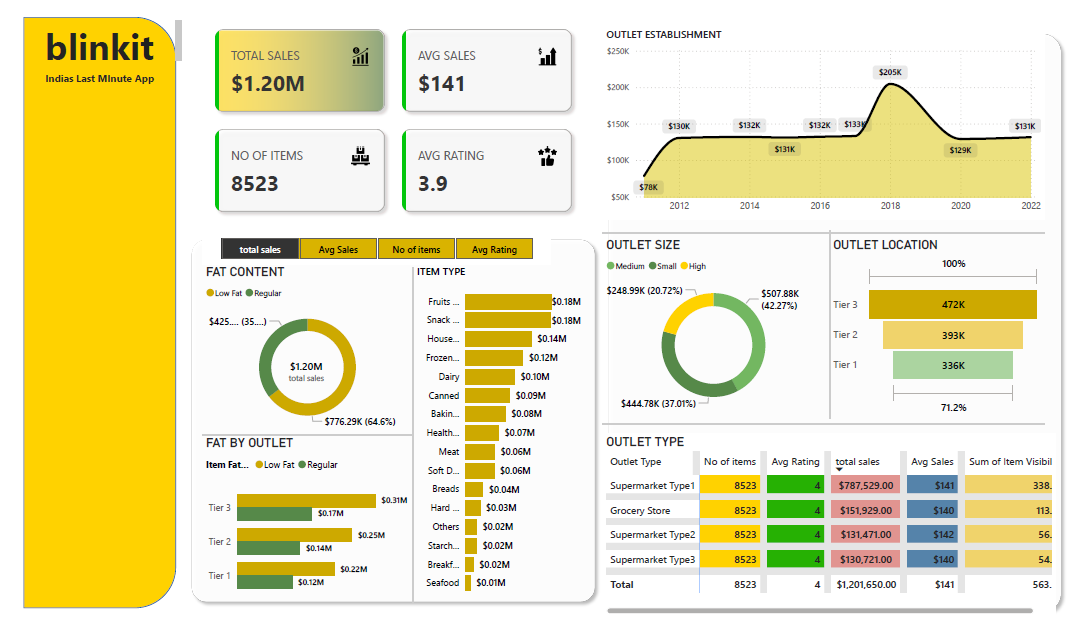

Layout of this report page (visuals, bound fields, positions):
{"tool":"powerbi","page":{"name":"Page 1","canvas":[1400,800],"ordinal":0},"visuals":[{"type":"shape","box":[9.6,0,203.8,786.5],"z":0},{"type":"textbox","box":[33.9,67.9,171.4,33.9],"z":1000},{"type":"textbox","box":[33.9,0,191.1,67.9],"z":2000},{"type":"cardVisual","fields":{"Data":["BlinkIT Grocery Data.total sales","BlinkIT Grocery Data.Avg Sales","BlinkIT Grocery Data.No of items","BlinkIT Grocery Data.Avg Rating"]},"box":[248.3,0,508.6,277.6],"z":3000},{"type":"shape","box":[226,287.8,554.5,499.2],"z":4000},{"type":"donutChart","title":"FAT CONTENT","fields":{"Y":["BlinkIT Grocery Data.total sales"],"Category":["BlinkIT Grocery Data.Item Fat Content"]},"box":[248.3,329.3,279.3,227.6],"z":5000},{"type":"slicer","fields":{"Values":["Metrics.Metrics"]},"box":[248.3,287.9,463.8,41.4],"z":6000},{"type":"cardVisual","fields":{"Data":["BlinkIT Grocery Data.total sales"]},"box":[284.5,348.3,205.2,248.3],"z":7000},{"type":"clusteredBarChart","title":"FAT BY OUTLET","fields":{"Y":["BlinkIT Grocery Data.total sales"],"Category":["BlinkIT Grocery Data.Outlet Location Type"],"Series":["BlinkIT Grocery Data.Item Fat Content"]},"box":[248.3,556.9,279.3,229.3],"z":8000},{"type":"shape","box":[248.3,534.5,279.3,44.8],"z":9000},{"type":"shape","box":[503.4,334.5,51.7,444.8],"z":10000},{"type":"barChart","title":" ITEM TYPE","fields":{"Y":["BlinkIT Grocery Data.total sales"],"Category":["BlinkIT Grocery Data.Item Type"]},"box":[529.3,329.3,227.6,450],"z":11000},{"type":"shape","box":[781,13.8,619,786.2],"z":12000},{"type":"lineChart","title":"OUTLET ESTABLISHMENT","fields":{"Y":["BlinkIT Grocery Data.total sales"],"Category":["BlinkIT Grocery Data.Outlet Establishment Year"]},"box":[781,13.8,587.9,255.2],"z":13000},{"type":"shape","box":[781,265.5,587.9,44.8],"z":14000},{"type":"donutChart","title":"OUTLET SIZE","fields":{"Y":["BlinkIT Grocery Data.total sales"],"Category":["BlinkIT Grocery Data.Outlet Size"]},"box":[781,293.1,294.8,241.4],"z":15000},{"type":"shape","box":[1063.8,284.5,37.9,250],"z":16000},{"type":"funnel","title":"OUTLET LOCATION","fields":{"Category":["BlinkIT Grocery Data.Outlet Location Type"],"Y":["Sum(BlinkIT Grocery Data.Sales)"]},"box":[1082.8,293.1,286.2,241.4],"z":17000},{"type":"shape","box":[781,519,587.9,44.8],"z":18000},{"type":"pivotTable","title":"OUTLET TYPE","fields":{"Rows":["BlinkIT Grocery Data.Outlet Type"],"Values":["BlinkIT Grocery Data.No of items","BlinkIT Grocery Data.Avg Rating","BlinkIT Grocery Data.total sales","BlinkIT Grocery Data.Avg Sales","Sum(BlinkIT Grocery Data.Item Visibility)"]},"box":[781,555.2,603.4,244.8],"z":19000}]}

Visuals, with their boxes in screenshot pixels (x1, y1, x2, y2), scaled from the page's 1400x800 canvas onto the 1085x633 screenshot:
shape: <bbox>7, 0, 165, 622</bbox>
textbox: <bbox>26, 54, 159, 81</bbox>
textbox: <bbox>26, 0, 174, 54</bbox>
cardVisual - BlinkIT Grocery Data.total sales x BlinkIT Grocery Data.Avg Sales: <bbox>192, 0, 587, 220</bbox>
shape: <bbox>175, 228, 605, 623</bbox>
"FAT CONTENT" donutChart: <bbox>192, 261, 409, 441</bbox>
slicer - Metrics.Metrics: <bbox>192, 228, 552, 261</bbox>
cardVisual - BlinkIT Grocery Data.total sales: <bbox>220, 276, 380, 472</bbox>
"FAT BY OUTLET" clusteredBarChart: <bbox>192, 441, 409, 622</bbox>
shape: <bbox>192, 423, 409, 458</bbox>
shape: <bbox>390, 265, 430, 617</bbox>
" ITEM TYPE" barChart: <bbox>410, 261, 587, 617</bbox>
shape: <bbox>605, 11, 1084, 632</bbox>
"OUTLET ESTABLISHMENT" lineChart: <bbox>605, 11, 1061, 213</bbox>
shape: <bbox>605, 210, 1061, 246</bbox>
"OUTLET SIZE" donutChart: <bbox>605, 232, 834, 423</bbox>
shape: <bbox>824, 225, 854, 423</bbox>
"OUTLET LOCATION" funnel: <bbox>839, 232, 1061, 423</bbox>
shape: <bbox>605, 411, 1061, 446</bbox>
"OUTLET TYPE" pivotTable: <bbox>605, 439, 1073, 632</bbox>
